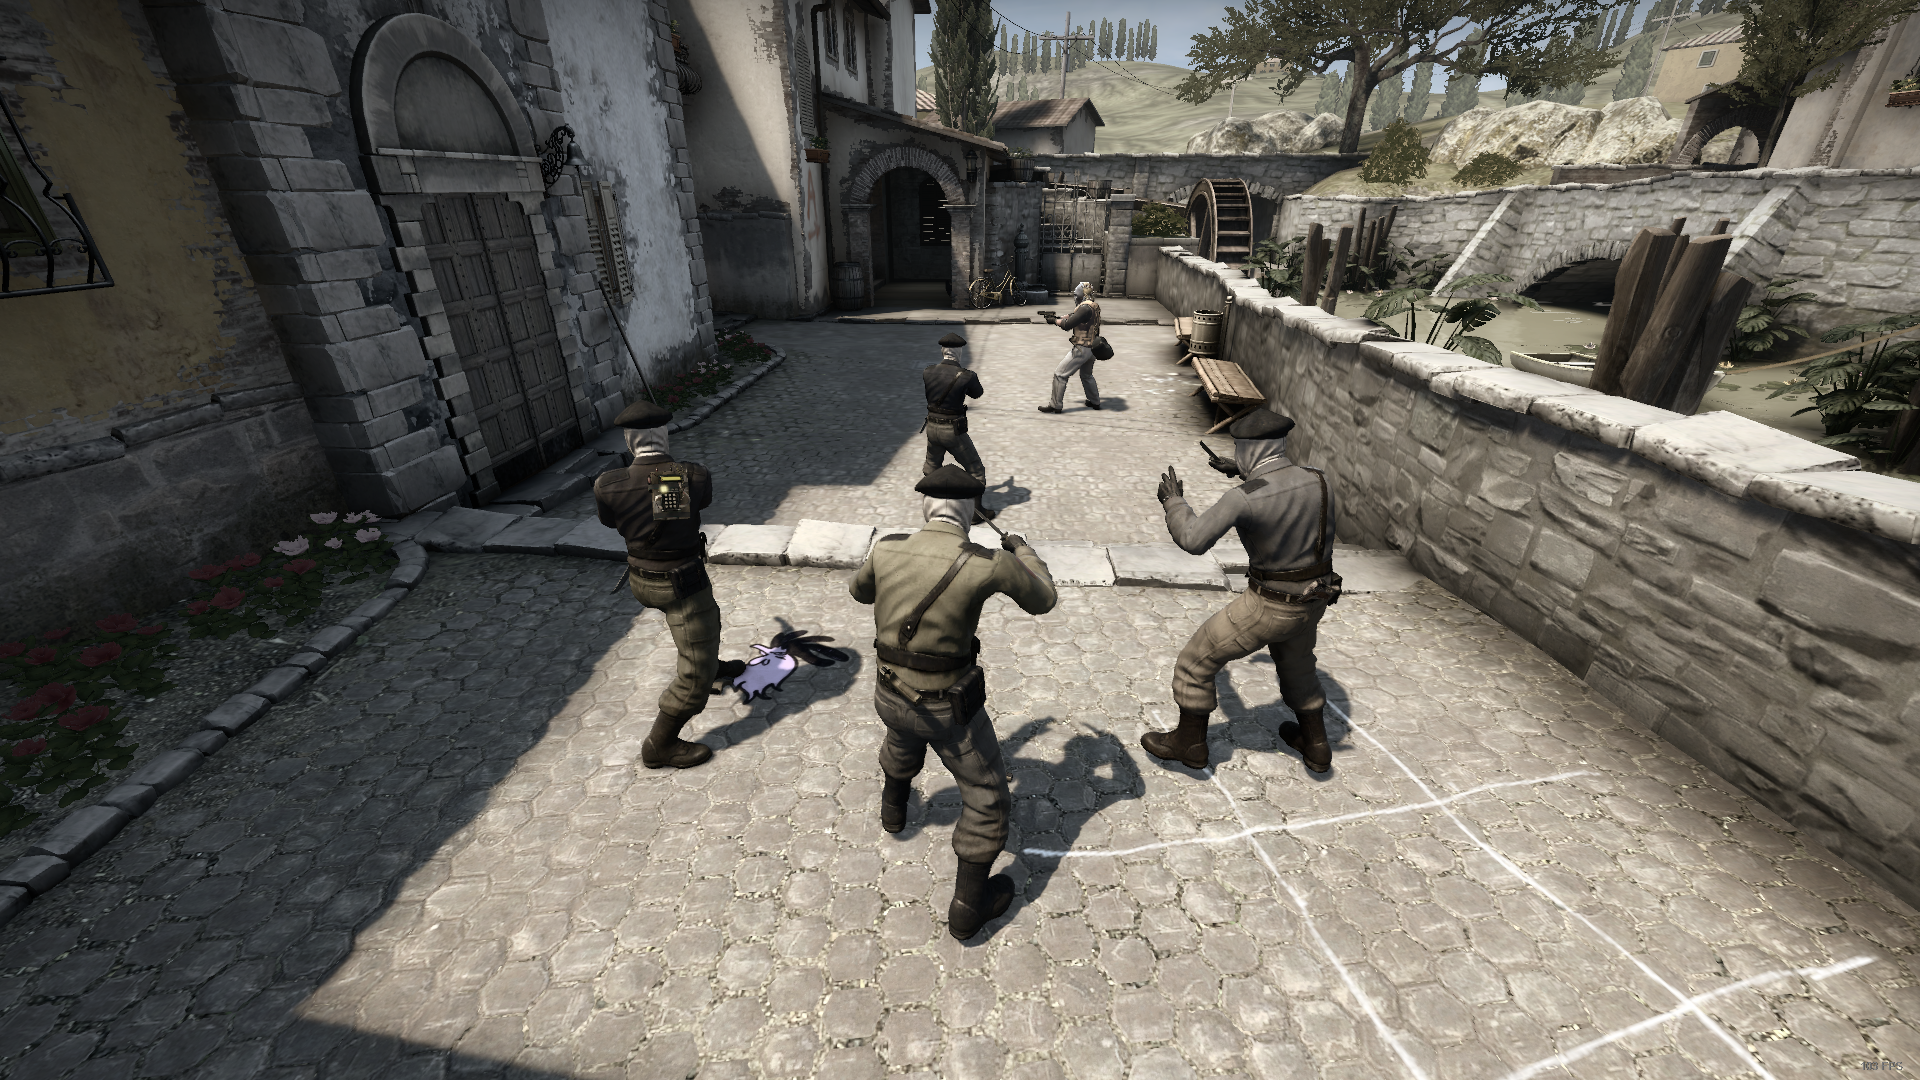t: (848, 463, 1058, 942), (1142, 409, 1342, 775), (592, 400, 721, 771), (919, 338, 986, 467)
